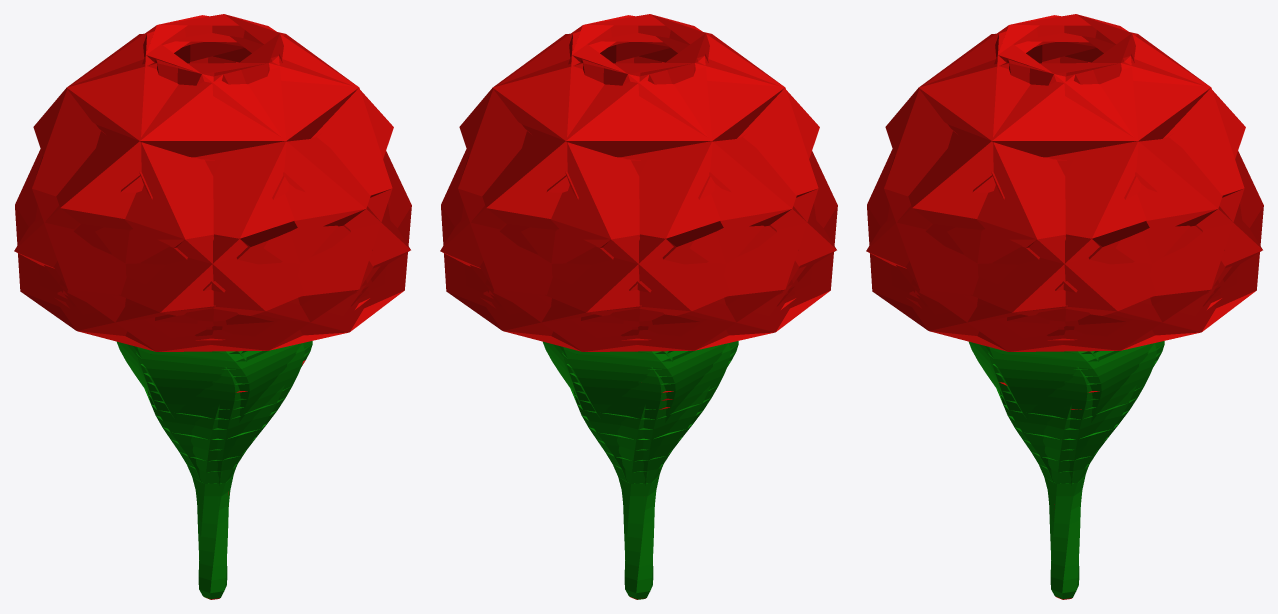
File: flower3.fbx
3 renders of one model, left to right at view 1: azimuth 30°, elevation 25°; view 2: azimuth 150°, elevation 25°; view 3: azimuth 270°, elevation 25°, orthographic.
Parts seen in each view (by area): view 1: flower3; view 2: flower3; view 3: flower3.
Boxes of the visible parts, box(x1,y1,x2,y2) form: flower3: box(14, 14, 411, 599); flower3: box(440, 14, 837, 599); flower3: box(866, 14, 1263, 599).
Bounding box in the file's own units: 152 × 234 × 152.
